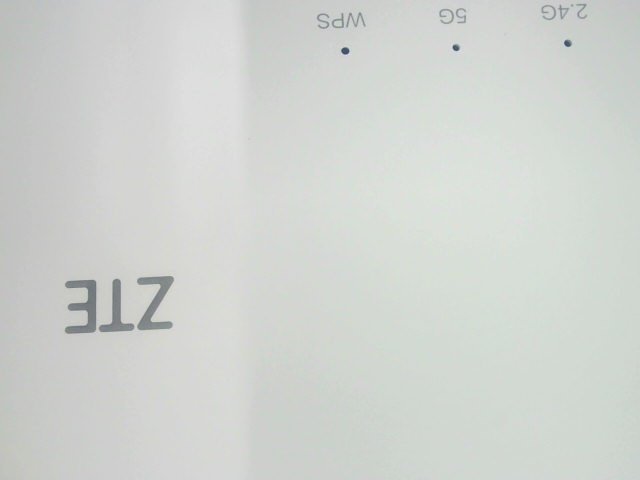AO_ZTESmall: (52, 264, 180, 343)
